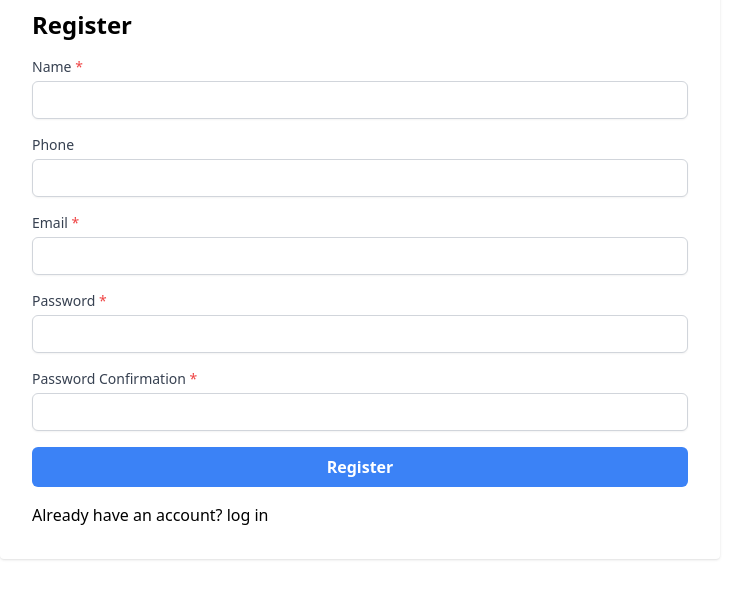
Register page tests › Form validation › Name should have at least 3 characters
This screenshot has width=737, height=601.
Type "Us" into the field with id "name" at (360, 100), box [32, 81, 688, 119]
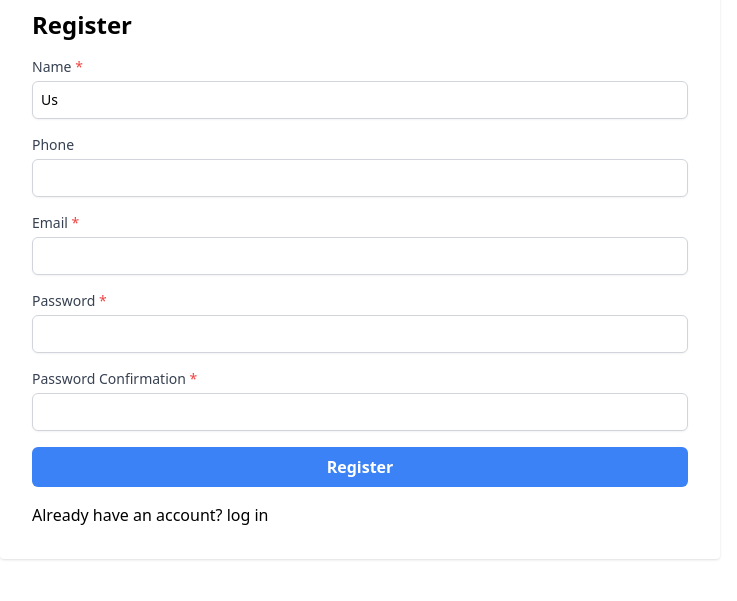
Leave the field with id "name", box [32, 81, 688, 119]
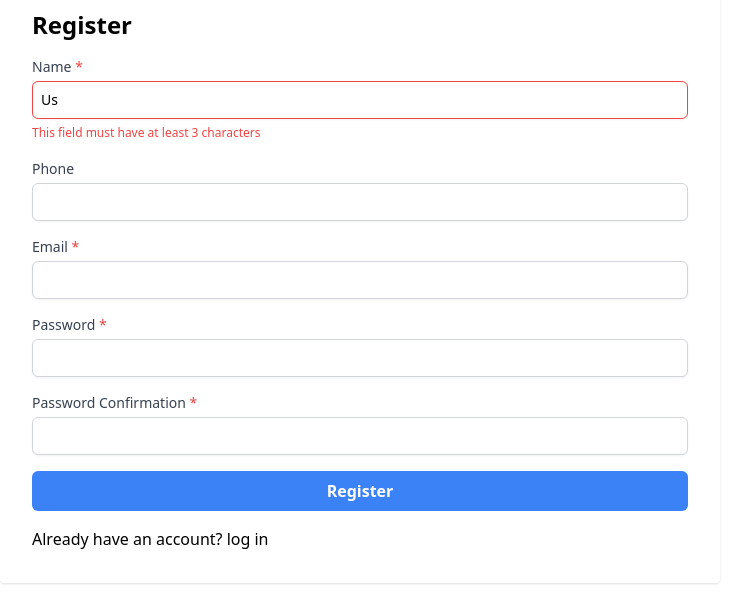
Check: the text with id "name-error" reads "This field must have at least 3 characters", box [32, 124, 260, 141]
